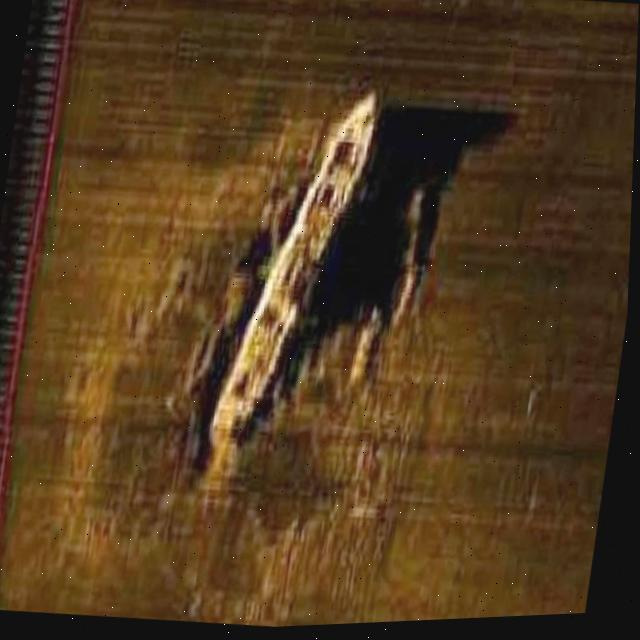shipwreck: (208, 76, 379, 475)
